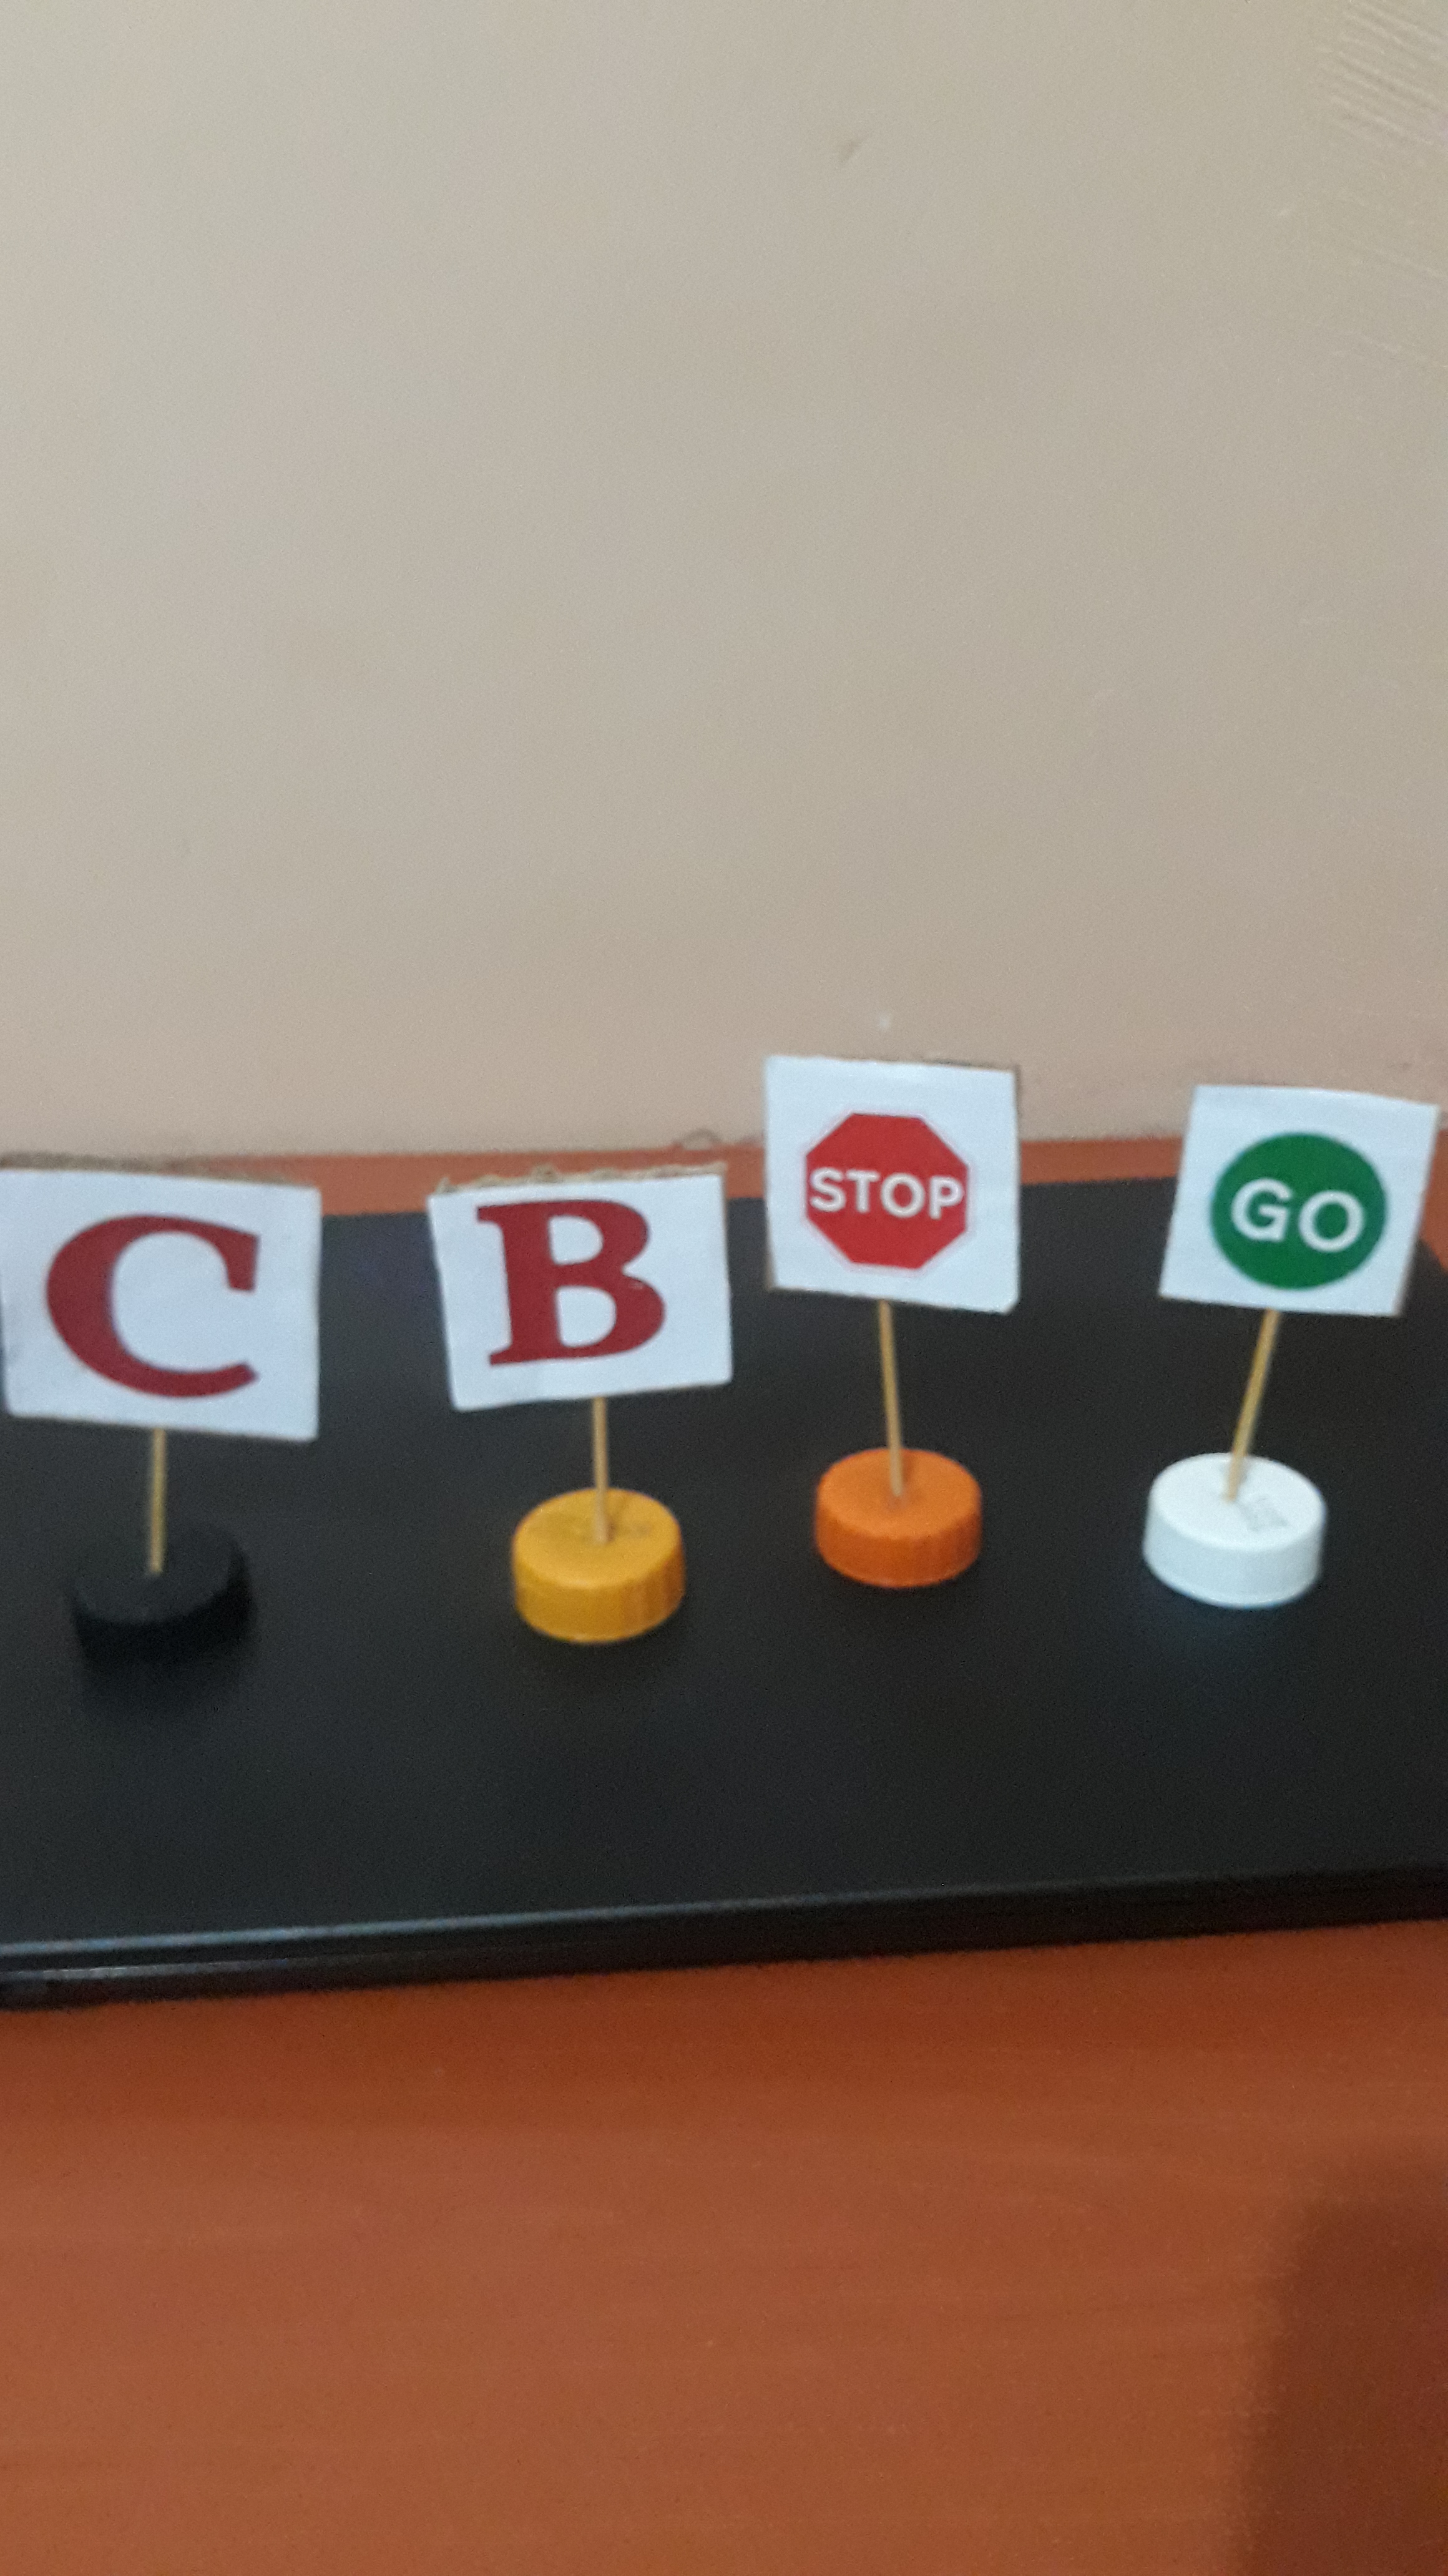go: (1200, 1085, 1411, 1327)
stop: (779, 1077, 1002, 1300)
zone B: (455, 1207, 708, 1389)
zone C: (7, 1182, 312, 1424)
